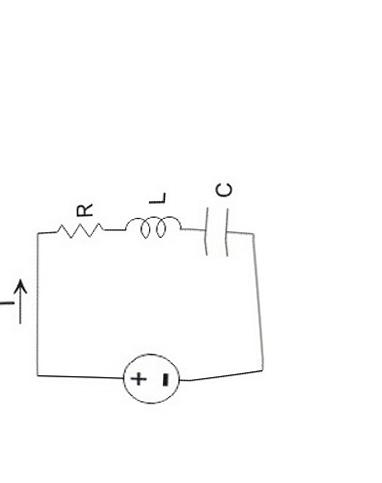Battery: (108, 335, 190, 419)
